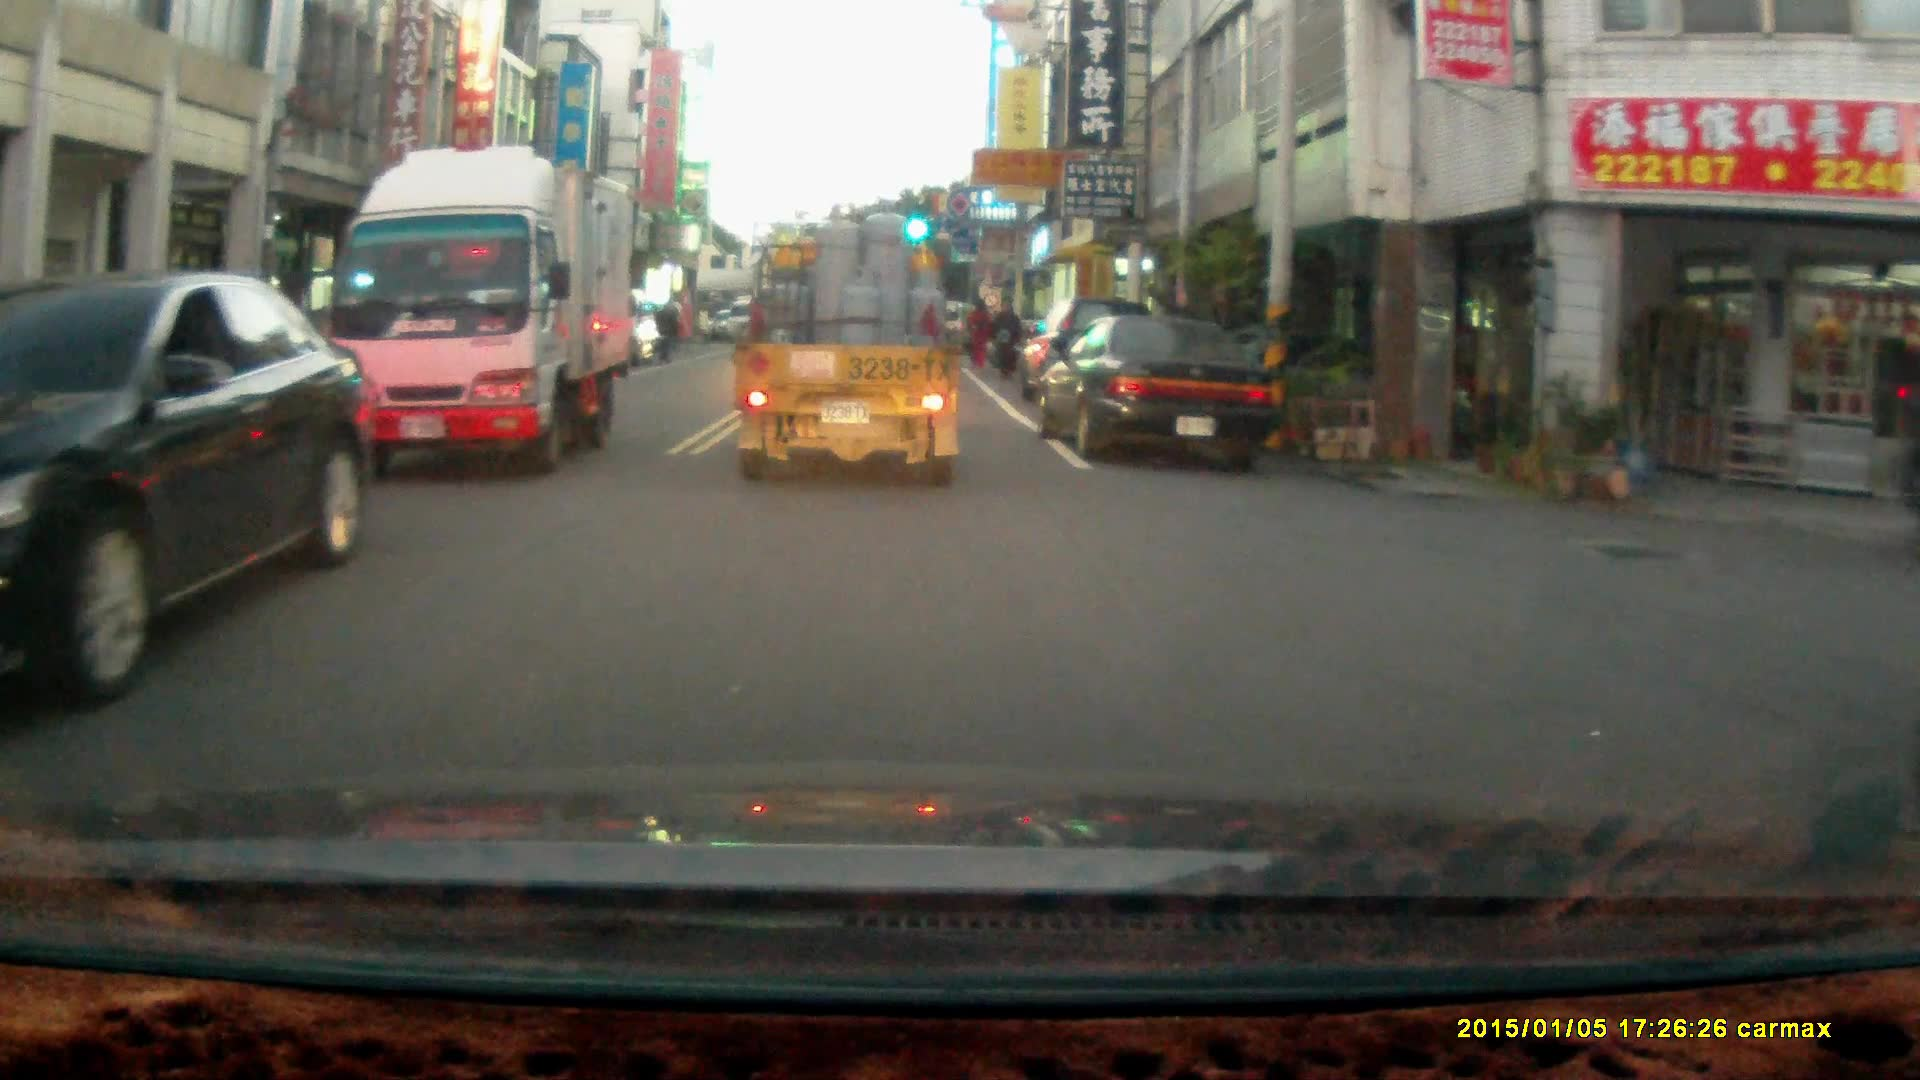pedestrian: (989, 295, 1021, 382), (963, 291, 994, 367), (653, 298, 684, 363)
vehicle: (1, 269, 371, 711), (321, 146, 634, 481), (729, 195, 967, 490), (1041, 309, 1278, 464)
